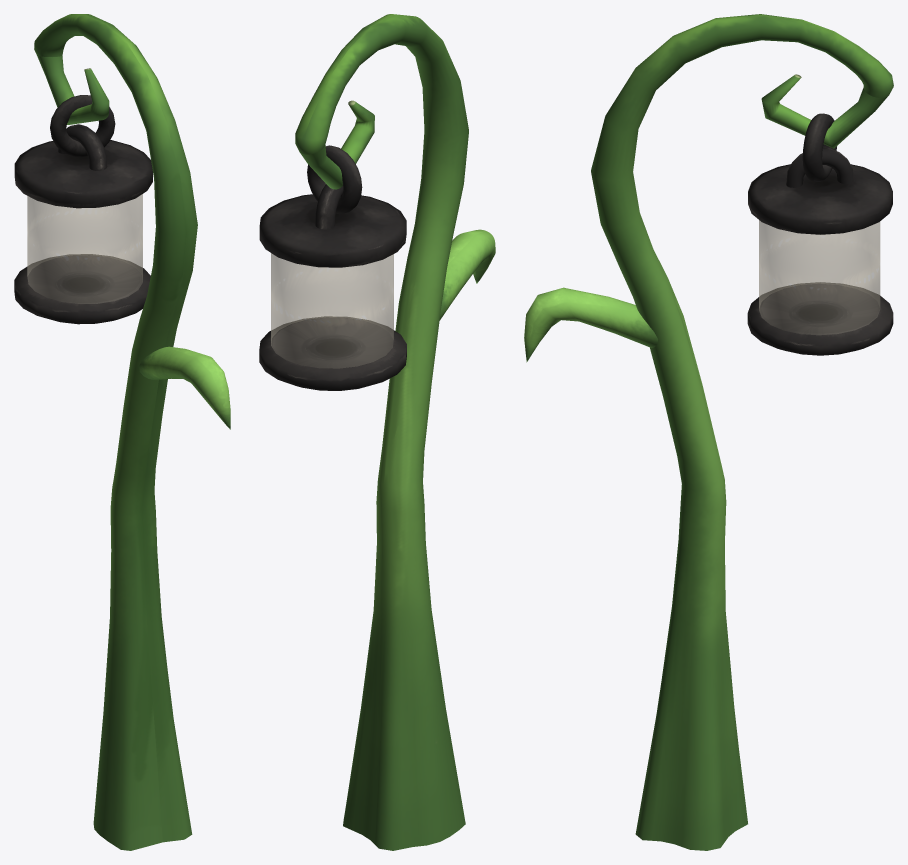
The model's file is vine_Lamp_Model.fbx.
3 views of the same model, side by side, from view 1: azimuth 30°, elevation 25°; view 2: azimuth 150°, elevation 25°; view 3: azimuth 270°, elevation 25° (orthographic). The views are drawn at different scales.
Parts seen in each view (by area): view 1: vine_Lamp_Base, vine_Lamp_Glass; view 2: vine_Lamp_Base, vine_Lamp_Glass; view 3: vine_Lamp_Base, vine_Lamp_Glass.
Part boxes in pixels (x1=…): vine_Lamp_Base: x1=14, y1=14, x2=230, y2=850; vine_Lamp_Glass: x1=27, y1=194, x2=142, y2=303; vine_Lamp_Base: x1=259, y1=14, x2=495, y2=850; vine_Lamp_Glass: x1=271, y1=253, x2=393, y2=368; vine_Lamp_Base: x1=524, y1=14, x2=893, y2=850; vine_Lamp_Glass: x1=759, y1=220, x2=880, y2=334.
Size of the model in its own units: 4.14 by 25.49 by 10.52.
Materials: 2 (2 with a texture image).
